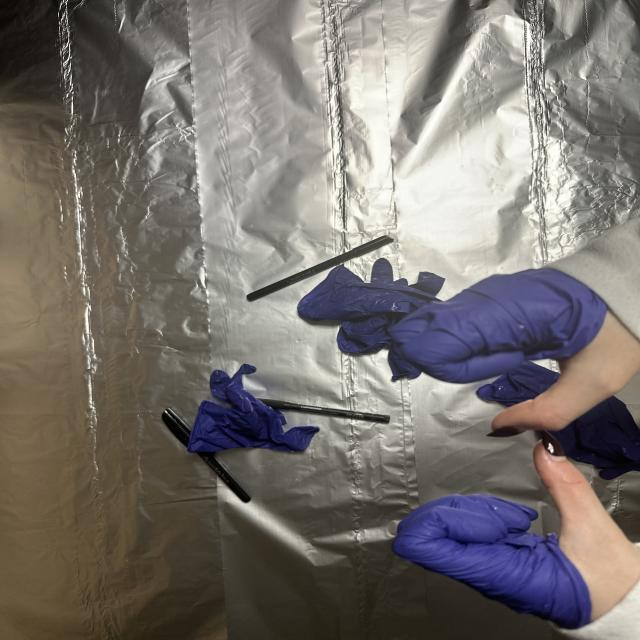glove_partial: (394, 438, 640, 633), (381, 265, 640, 441)
